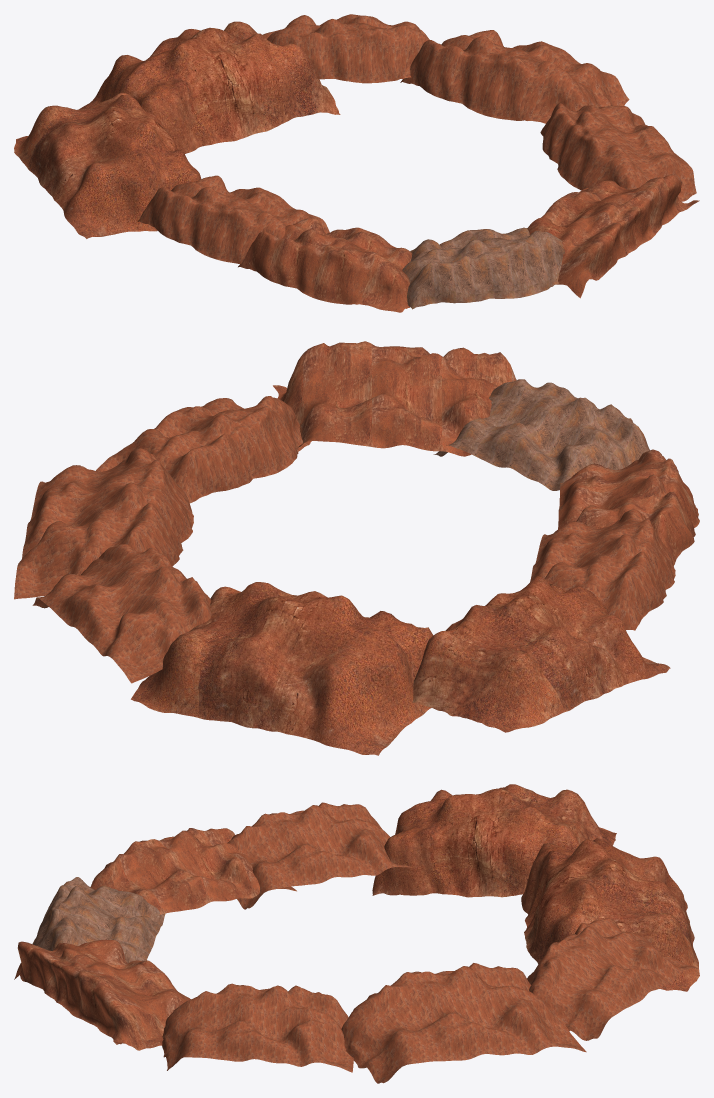
Rendered from shan.fbx.
3 renders of one model, top to bottom at view 1: azimuth 30°, elevation 25°; view 2: azimuth 150°, elevation 25°; view 3: azimuth 270°, elevation 25°, orthographic. The views are drawn at different scales.
Parts seen in each view (by area): view 1: qunshan1:polySurface1, qunshan1:polySurface8, polySurface14, qunshan1:polySurface11, qunshan2:polySurface1, qunshan1:polySurface10, qunshan1:polySurface13, qunshan1:polySurface12, qunshan1:polySurface14; view 2: qunshan1:polySurface1, qunshan1:polySurface8, qunshan1:polySurface10, polySurface14, qunshan1:polySurface14, qunshan2:polySurface1, qunshan1:polySurface13, qunshan1:polySurface12, qunshan1:polySurface11; view 3: qunshan1:polySurface8, polySurface14, qunshan1:polySurface1, qunshan1:polySurface13, qunshan1:polySurface10, qunshan1:polySurface14, qunshan1:polySurface12, qunshan1:polySurface11, qunshan2:polySurface1.
Boxes of the visible parts, bbox=[...] form: qunshan1:polySurface1: bbox=[79, 21, 340, 153]; qunshan1:polySurface8: bbox=[14, 92, 201, 238]; polySurface14: bbox=[400, 30, 629, 123]; qunshan1:polySurface11: bbox=[238, 217, 412, 312]; qunshan2:polySurface1: bbox=[402, 227, 564, 309]; qunshan1:polySurface10: bbox=[527, 174, 699, 298]; qunshan1:polySurface13: bbox=[540, 103, 696, 201]; qunshan1:polySurface12: bbox=[137, 175, 329, 263]; qunshan1:polySurface14: bbox=[262, 14, 429, 83]; qunshan1:polySurface1: bbox=[131, 582, 433, 755]; qunshan1:polySurface8: bbox=[412, 576, 670, 732]; qunshan1:polySurface10: bbox=[273, 341, 516, 456]; polySurface14: bbox=[14, 448, 193, 599]; qunshan1:polySurface14: bbox=[32, 544, 211, 683]; qunshan2:polySurface1: bbox=[433, 379, 649, 490]; qunshan1:polySurface13: bbox=[96, 396, 311, 503]; qunshan1:polySurface12: bbox=[530, 509, 675, 630]; qunshan1:polySurface11: bbox=[558, 449, 699, 565]; qunshan1:polySurface8: bbox=[372, 784, 616, 897]; polySurface14: bbox=[341, 963, 586, 1083]; qunshan1:polySurface1: bbox=[521, 838, 699, 991]; qunshan1:polySurface13: bbox=[162, 983, 353, 1072]; qunshan1:polySurface10: bbox=[14, 939, 190, 1050]; qunshan1:polySurface14: bbox=[527, 918, 698, 1040]; qunshan1:polySurface12: bbox=[227, 802, 413, 909]; qunshan1:polySurface11: bbox=[90, 828, 296, 914]; qunshan2:polySurface1: bbox=[32, 877, 165, 962].
Size of the model in its own units: 10321 by 1666 by 11108.
